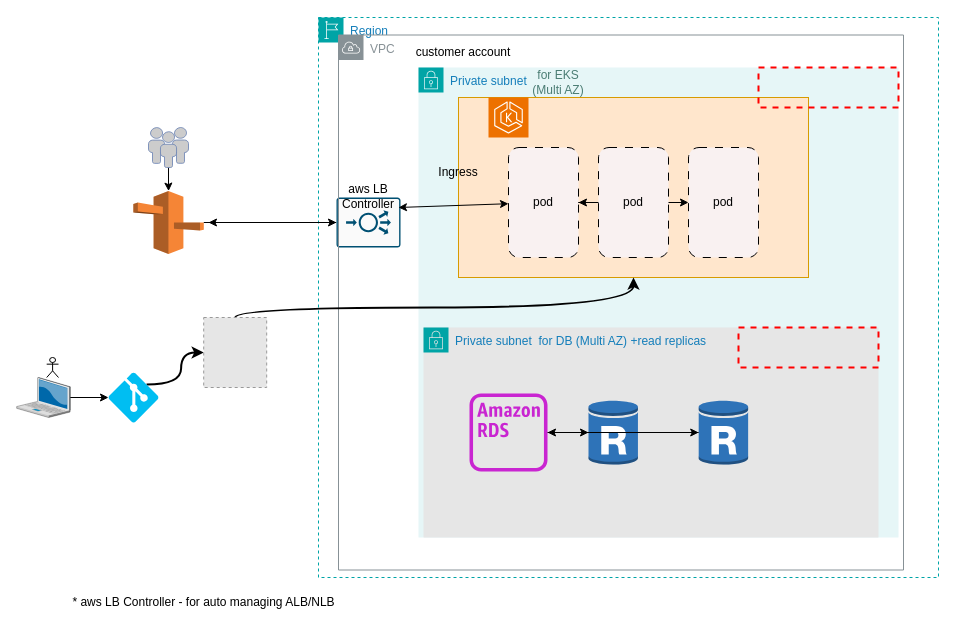
Image size: 957x635. Some labels were removed from this diagram. Grey dashed boxes stand in for pictures. Each missing label, with the centre of its shape:
"Security Group-eks-private" belongs at (x=828, y=87).
"Security Group-rds-private" belongs at (x=808, y=347).
